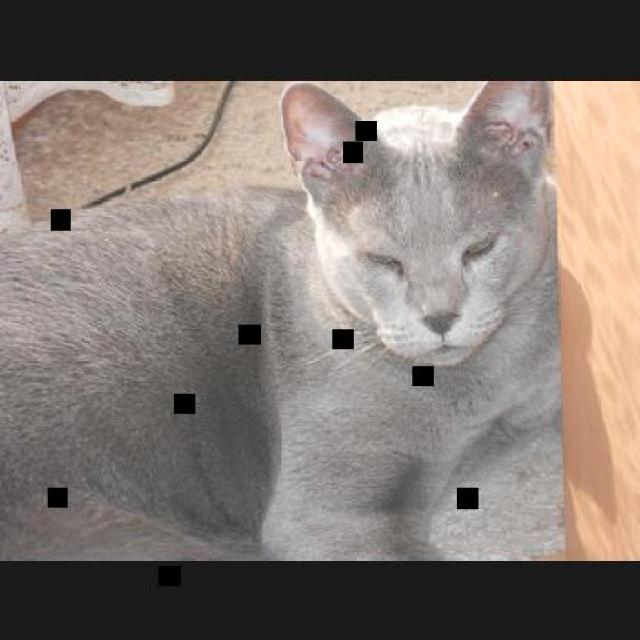unauthorized: (0, 78, 563, 560)
